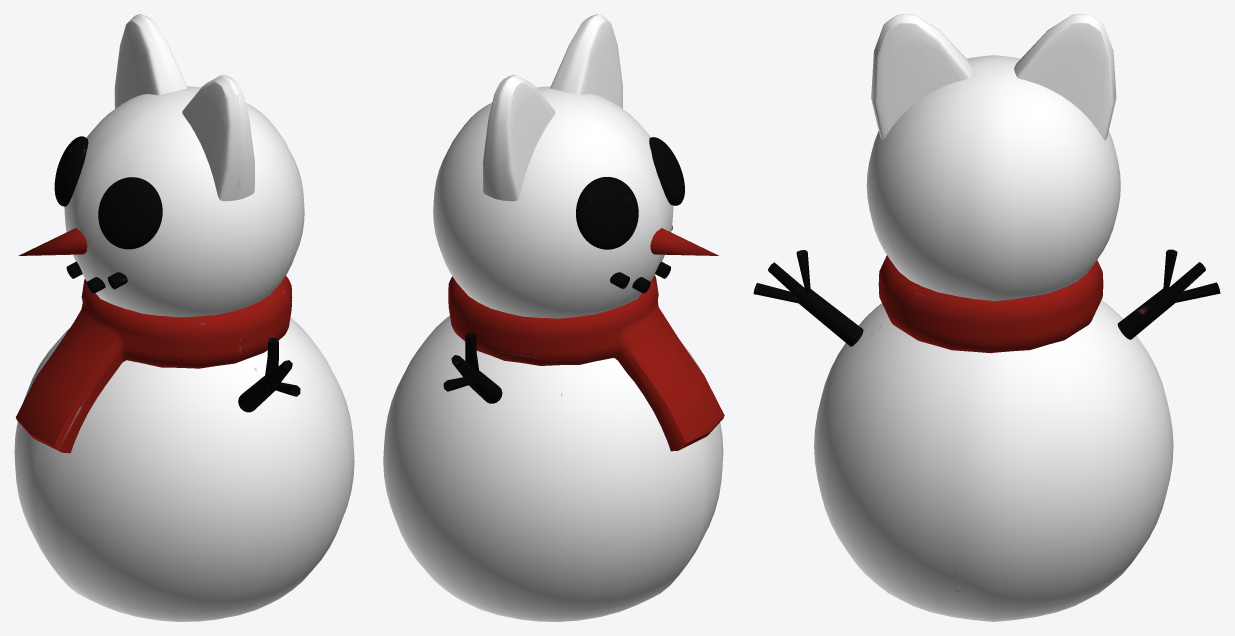
The model's file is boneco de neve.gltf.
The picture shows the model from 3 angles, left to right: view 1: azimuth 30°, elevation 25°; view 2: azimuth 150°, elevation 25°; view 3: azimuth 270°, elevation 25°; orthographic projection. The views are drawn at different scales.
Visible parts, largest first — view 1: BonecoNeve; view 2: BonecoNeve; view 3: BonecoNeve.
Boxes of the visible parts, box(x1,y1,x2,y2) form: BonecoNeve: box(14, 14, 354, 621); BonecoNeve: box(383, 14, 724, 621); BonecoNeve: box(753, 14, 1220, 621).
Bounding box in the file's own units: 2.52 × 4.15 × 3.04.
Materials: 1 (1 with a texture image).
